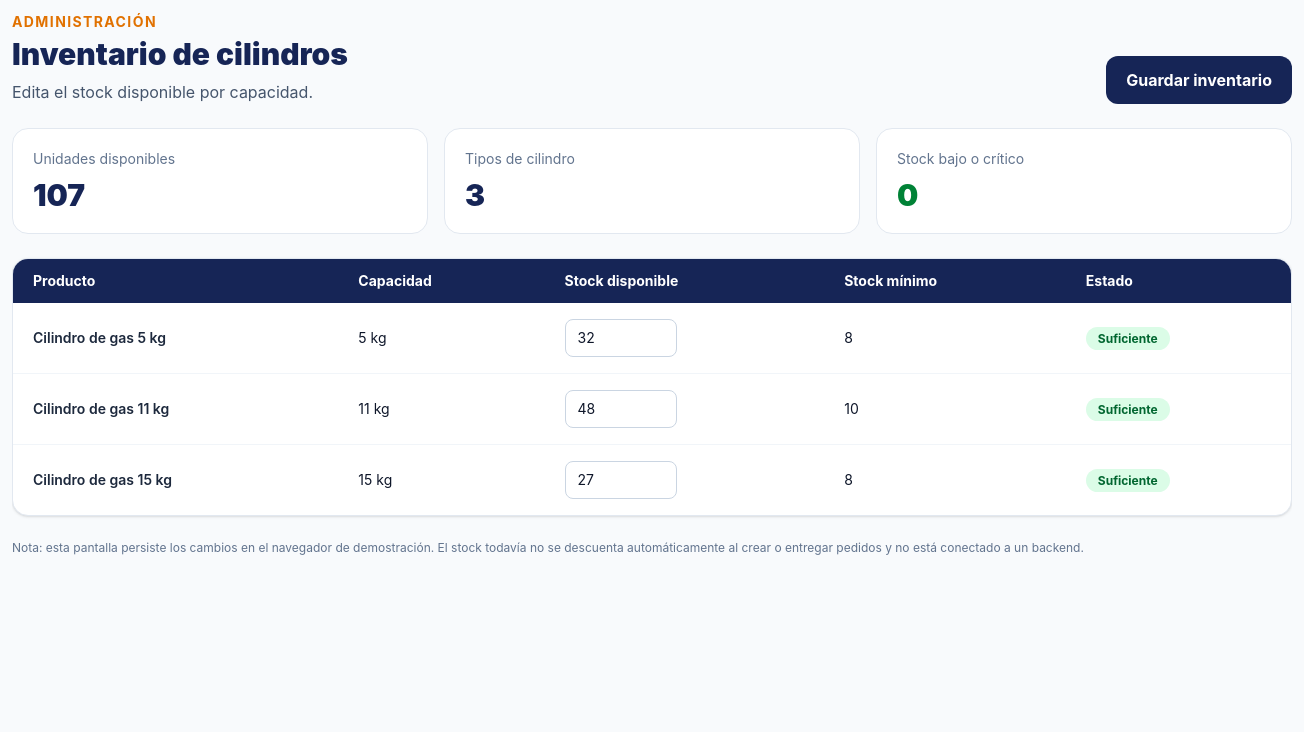
Inventario › permite editar y guardar el stock
Replace the text in the number field named "stock de cilindro de gas 5 kg" in the row of "Cilindro de gas 5 kg" with "20". click: (621, 338)
box: [565, 319, 677, 357]
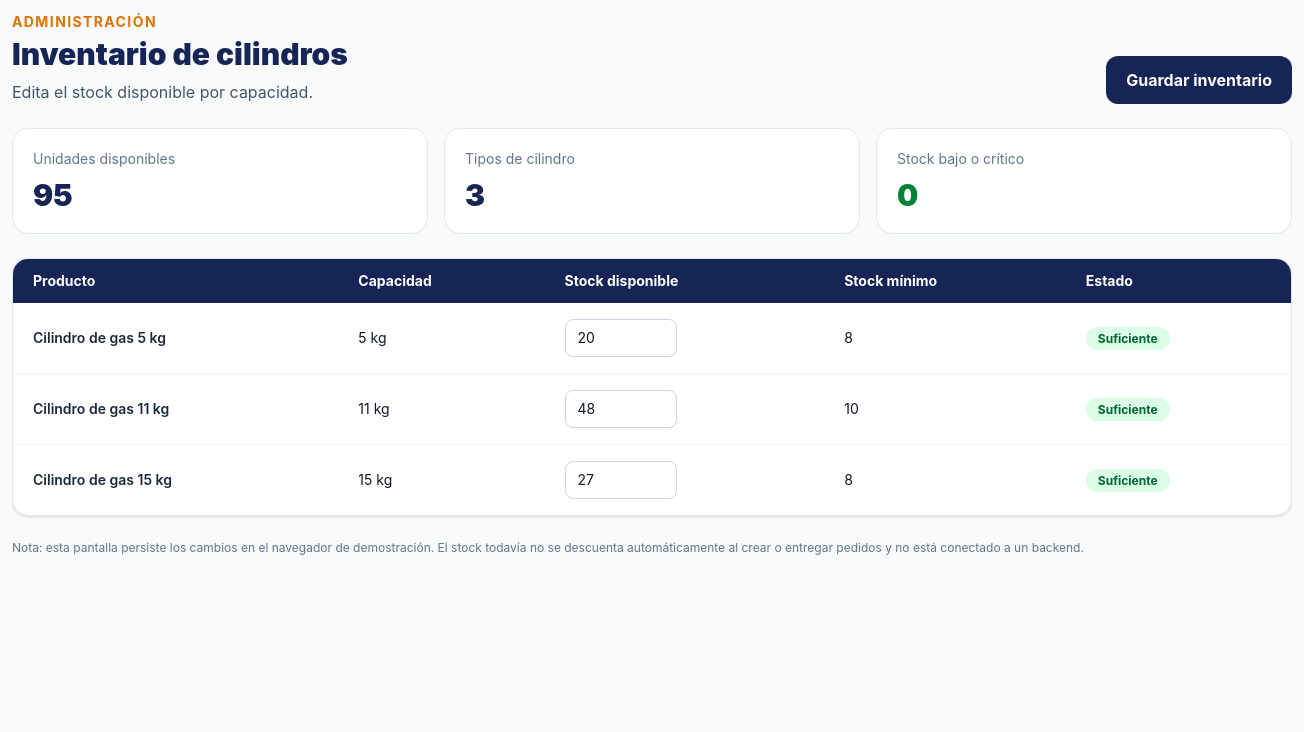
Click the button "Guardar inventario". click: (1199, 80)
box: [1106, 56, 1292, 104]
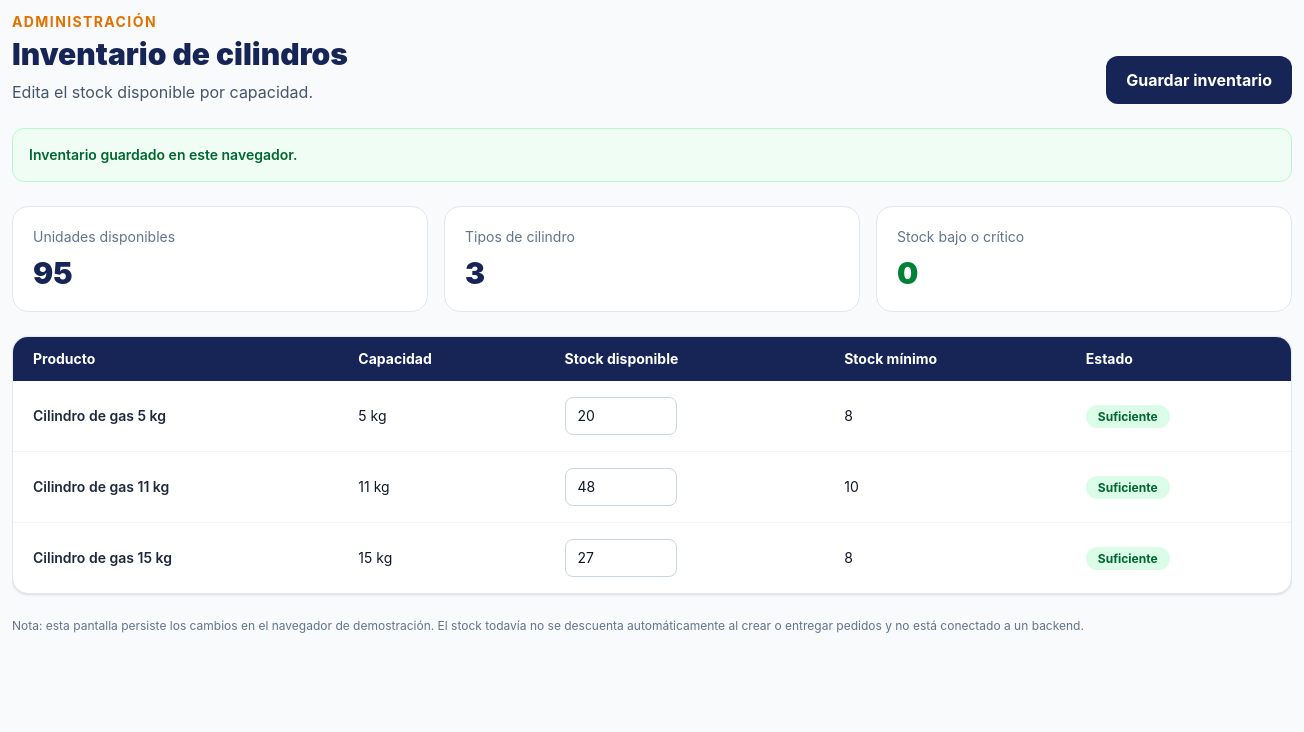
Now the message shows "Inventario guardado", box [29, 146, 297, 163]
